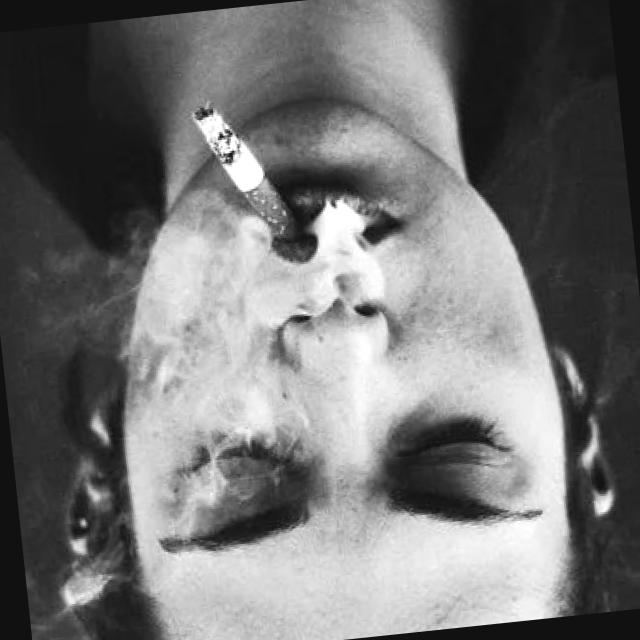cigarette: (185, 90, 305, 256)
